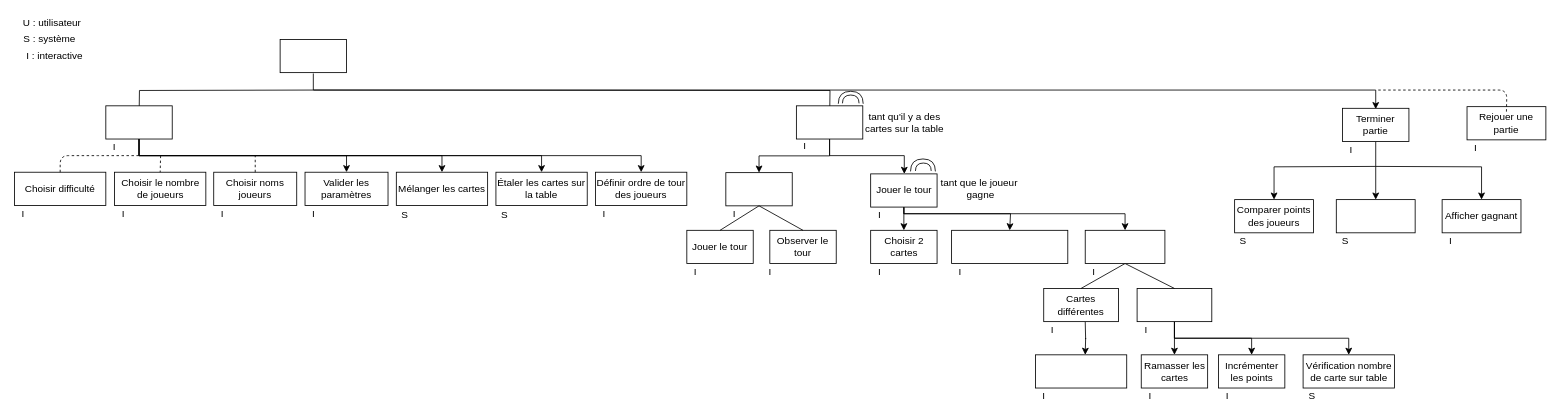
This 1560x418 diagram has some shape labels left out. The shapes that lost their labels are listed below. From the top down, each one's centre as x and y in pixels, then its label:
the point at 313,56: Memory
the point at 138,122: Créer partie
the point at 829,122: Jouer la partie
the point at 758,189: Débuter nouveau tour
the point at 1375,216: Créer classement
the point at 1009,246: Vérifier correspondance des cartes
the point at 1124,246: Résoudre le tour
the point at 1174,305: Cartes similaires
the point at 1081,371: Passer le tour au joueur suivant
